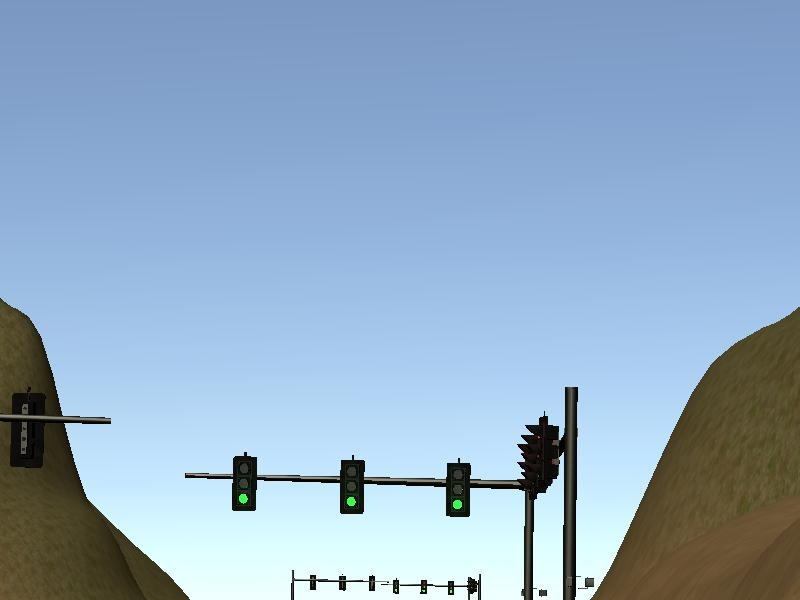GREEN: (445, 462, 474, 519), (338, 459, 366, 516), (231, 453, 256, 512)
